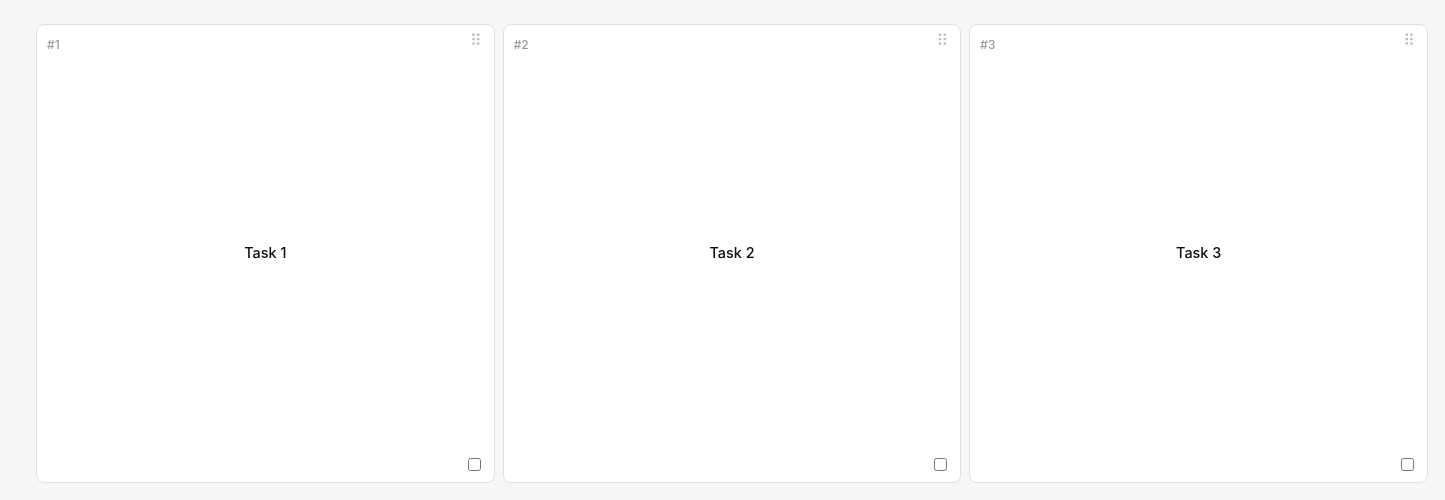
GridView context menu › right-clicking a card opens the context menu
// Right-click a card
Right-click the element with test id "task-card-t2" at coordinates (732, 253), box [503,24,961,483]
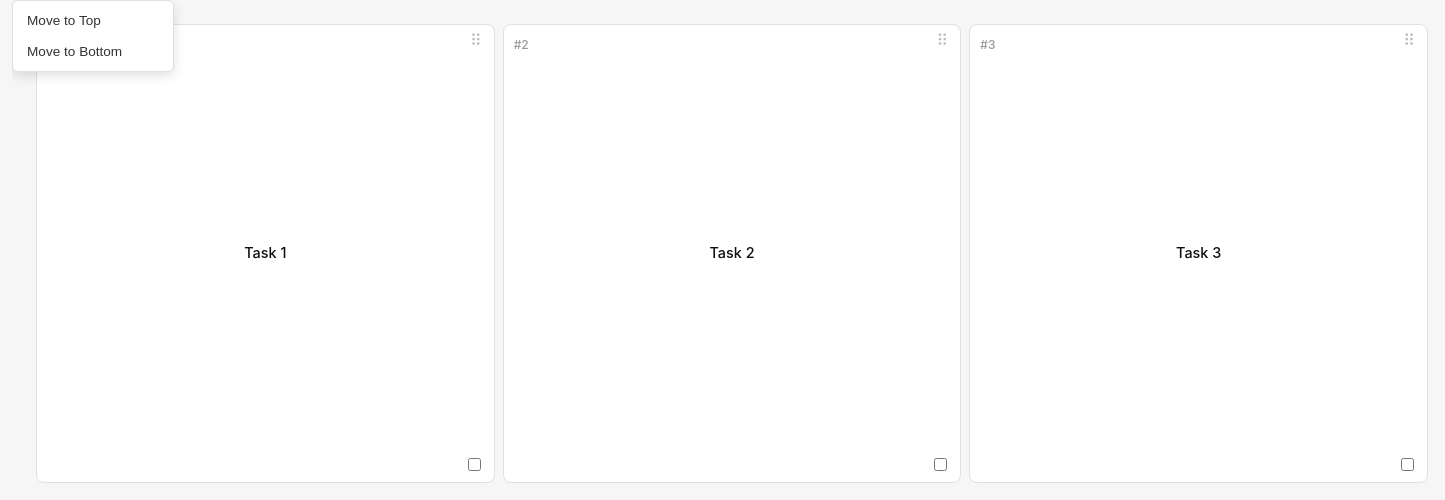
Expected: the element with test id "context-menu" is shown, [12,0,174,72]
Expected: the button "Move to Top" is shown, [13,5,173,36]
Expected: the button "Move to Bottom" is shown, [13,36,173,67]
